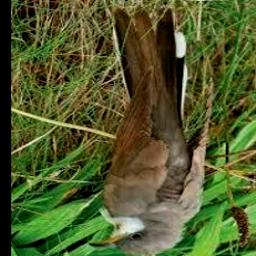Cuckoo: (89, 12, 207, 255)
